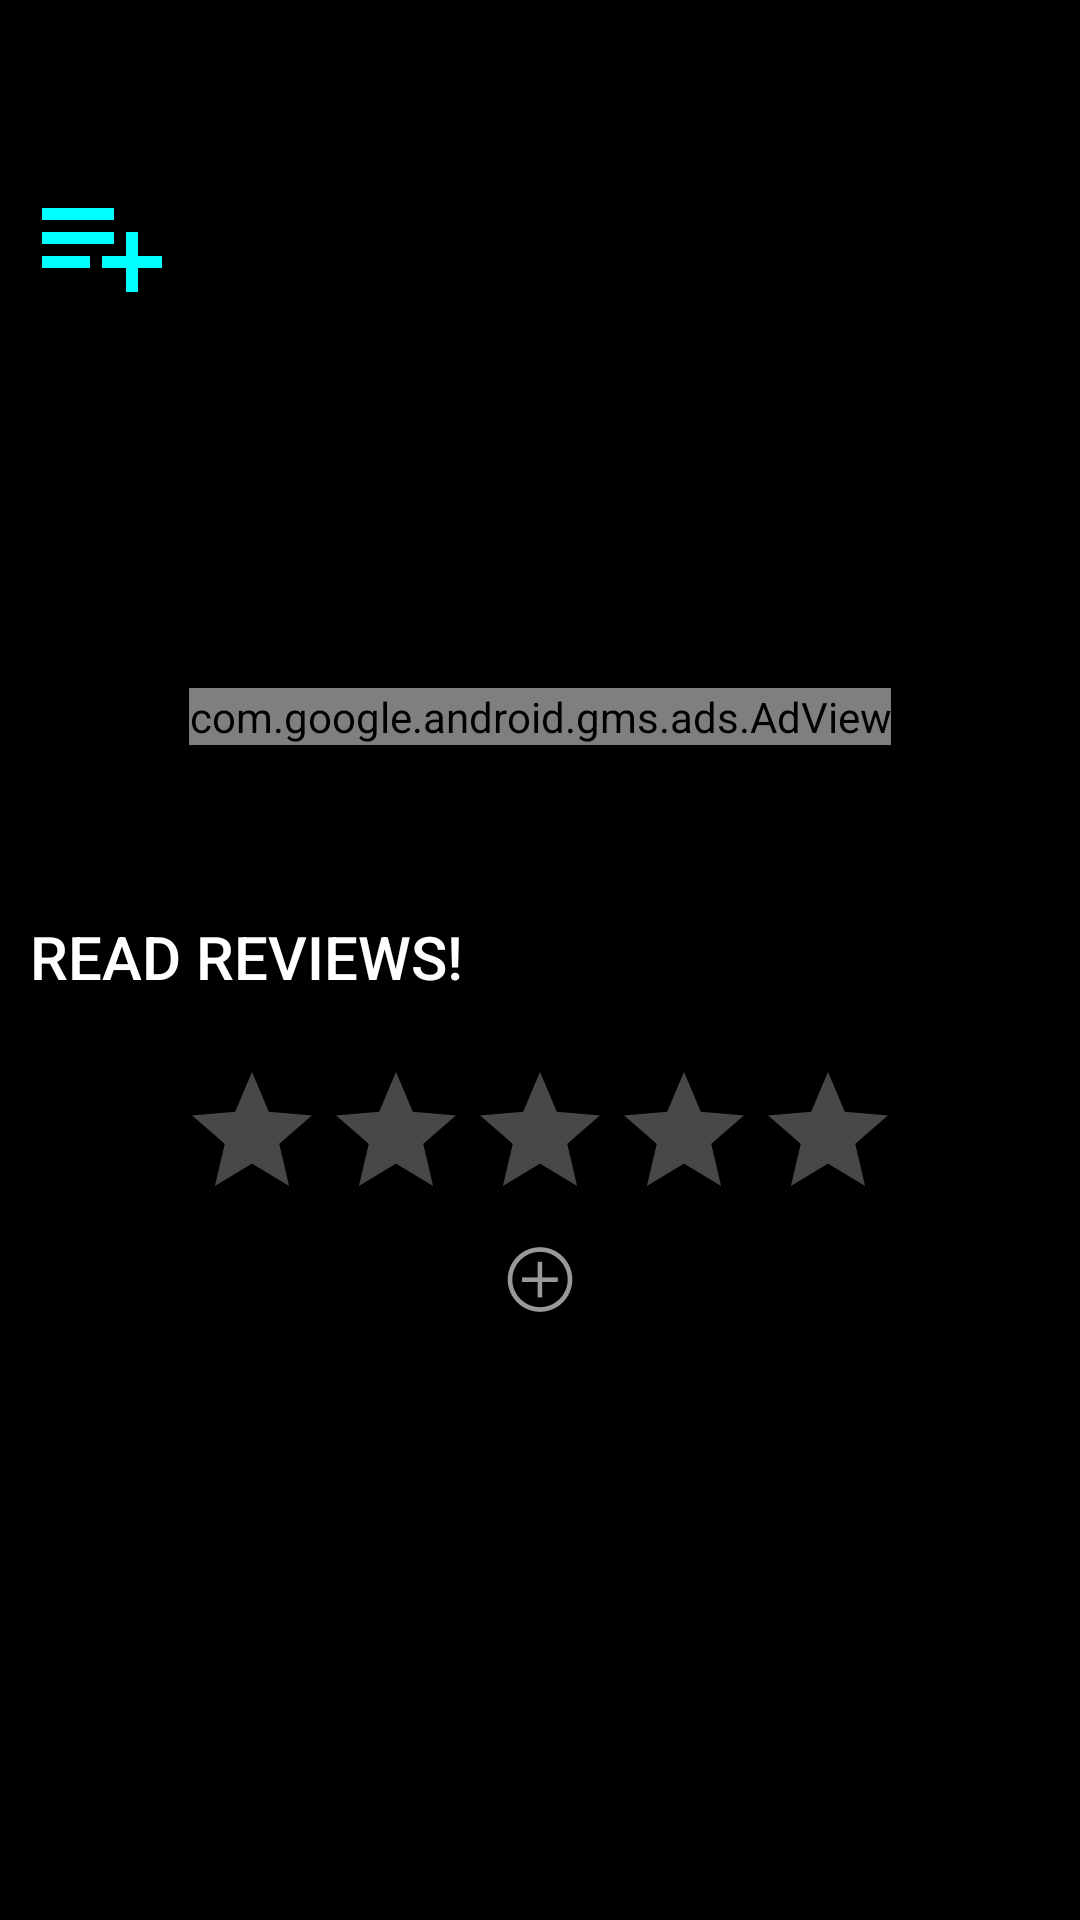

Icons on this 1080px×1920px Android screen, each with its box as (x1, y1, x2, y2):
add: (507, 1247, 573, 1312)
playlist add: (42, 208, 162, 292)
